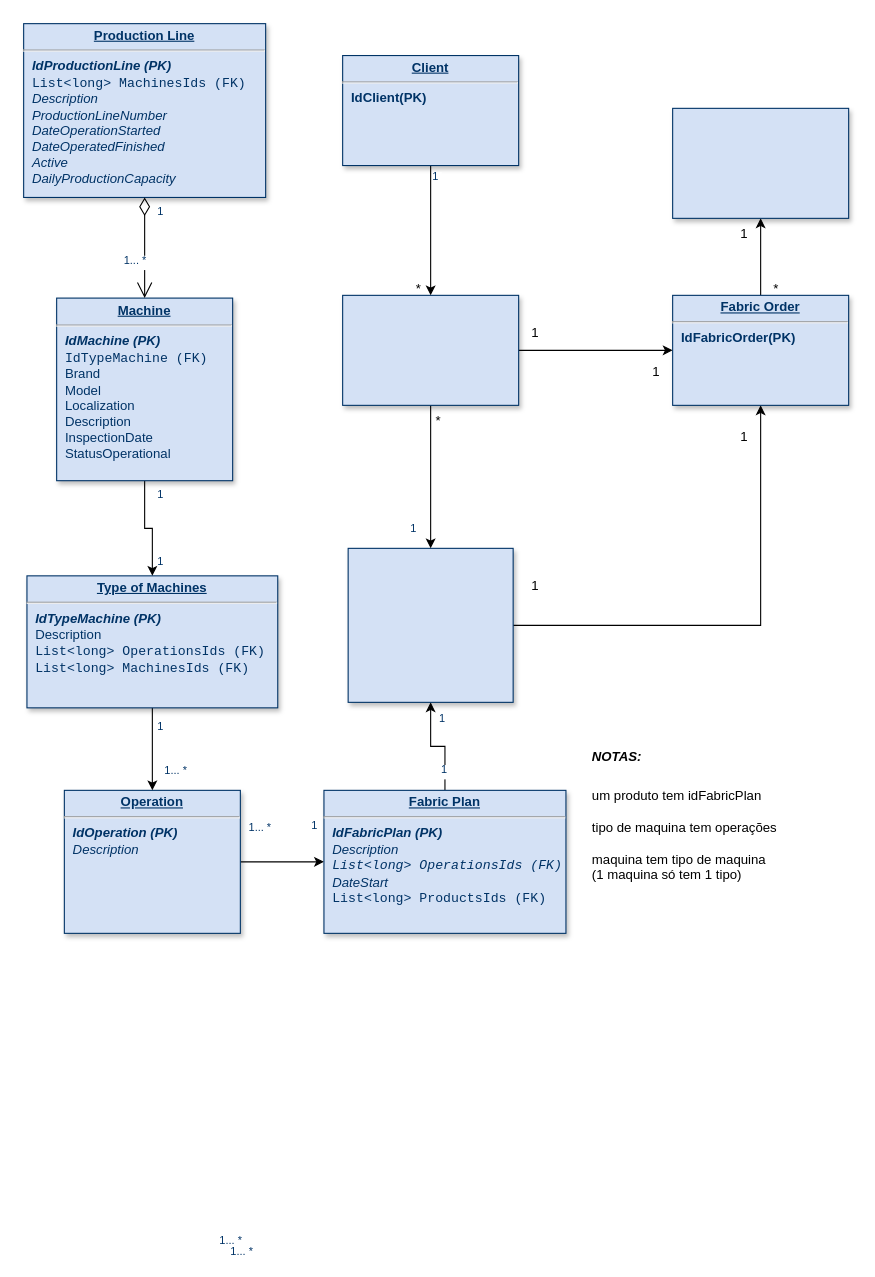
This 875x1277 diagram has some shape labels left out. The shapes that lost their labels are listed below. From the top down, each one's centre as x and y in pixels, then its label:
At point 761,164: "Production Plan IdProductionPlan(PK)".
At point 431,351: "Order IdOrder (PK)".
At point 431,626: "Product IdProduct (PK) idFabricPlan (FK) Name Description Price Active".
